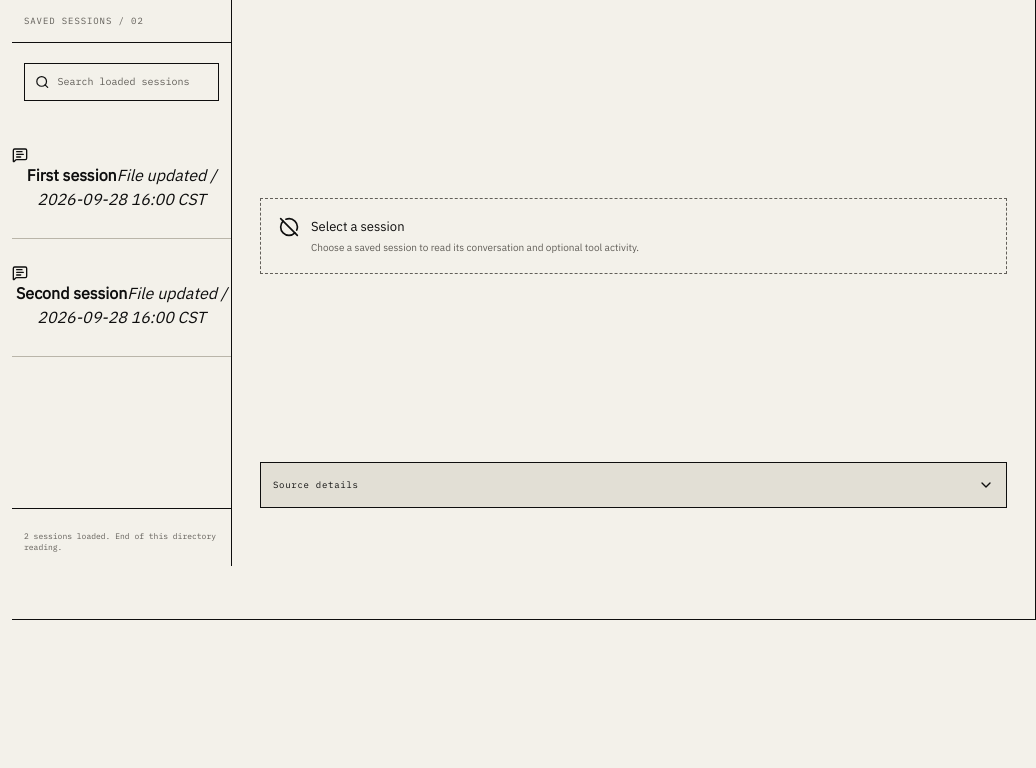
loads only a selected session and keeps a superseded response out of the conversation
The width and height of the screenshot is (1036, 768).
Expected: the heading "Select a session" is shown, [311,218,404,235]
Click the button "First session": (122, 179) [12,120,231,238]
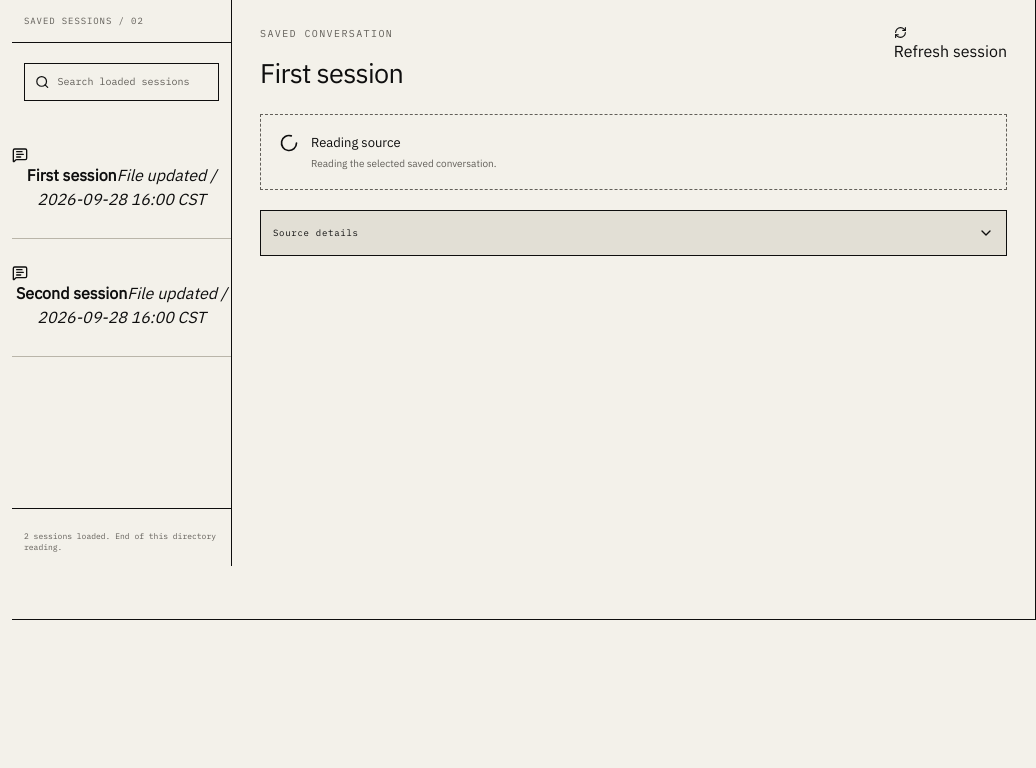
Click the button "Second session": (122, 297) [12,238,231,356]
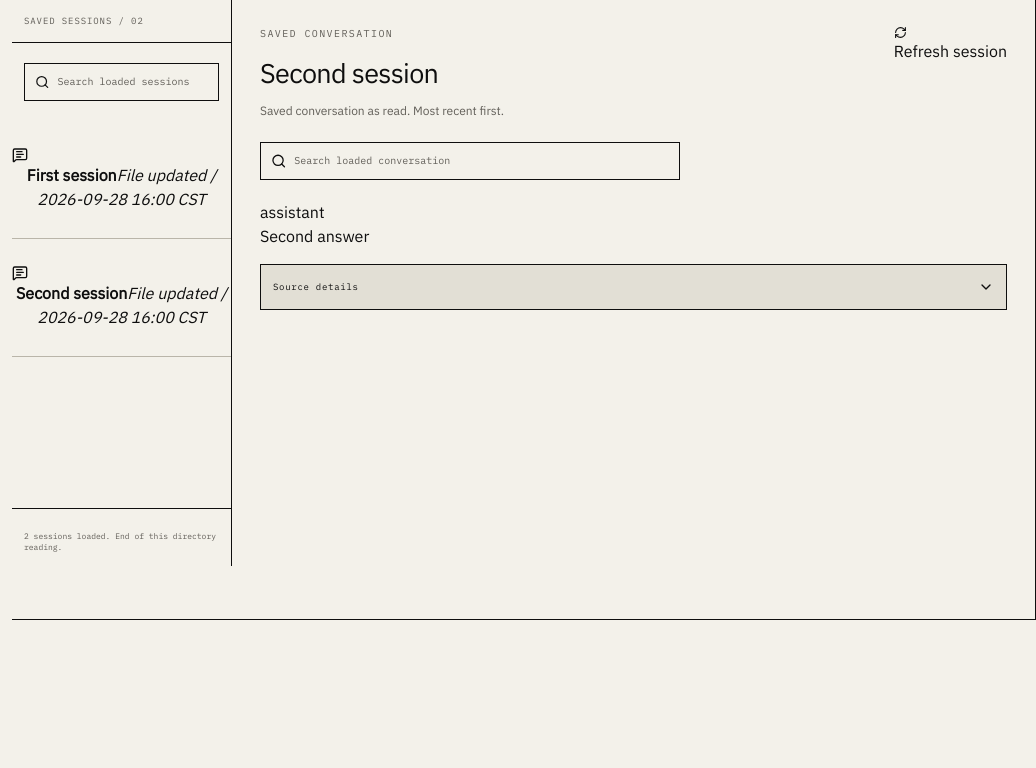
Now the text "Second answer" is shown, box [260,226,369,246]
Now the heading "Second session" is shown, box [260,53,438,94]
